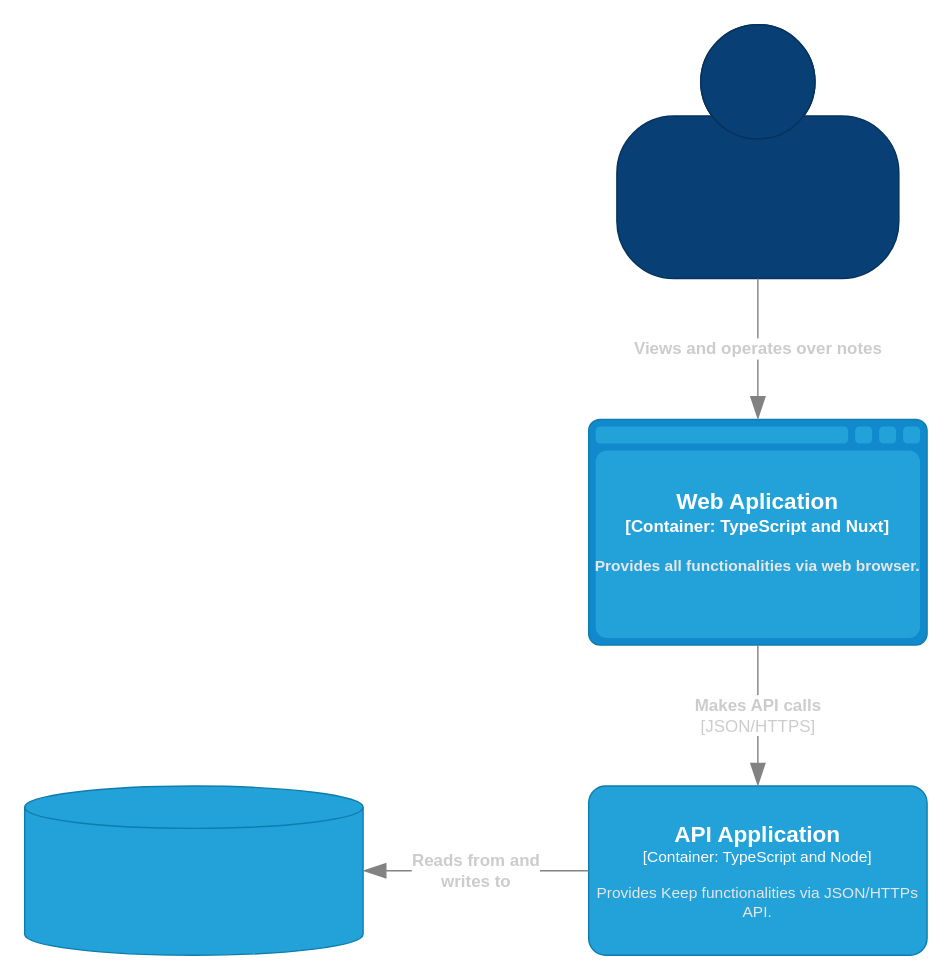
The diagram is 952 pixels wide and 980 high, and some of its shapes have lost their labels. Here are the shapes that lost their labels. From the top down, the centre of each, then its label:
the point at 757,150: Customer [Person] A Google Keep Clone user.
the point at 193,870: Database [Container : MySQL ] Stores information.
